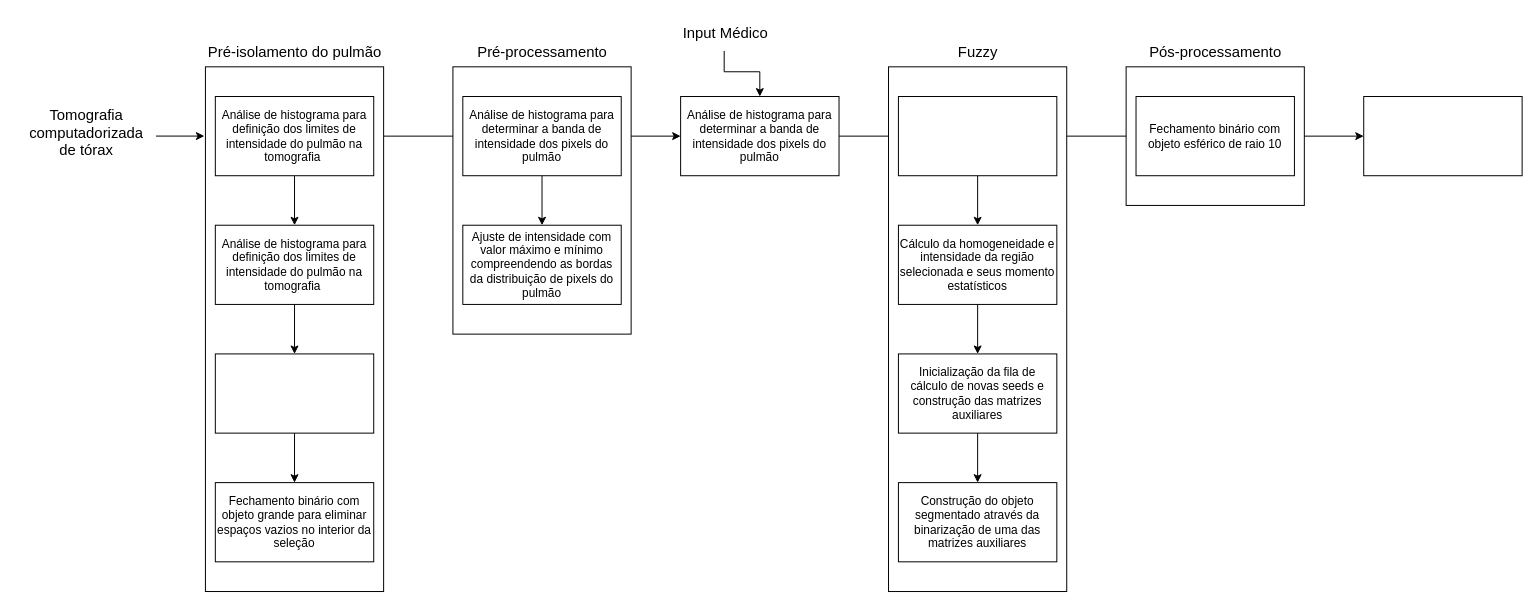
The diagram is 1539 pixels wide and 609 high, and some of its shapes have lost their labels. Each missing label, with the centre of its shape:
Binarização simples da imagem com thresholds encontrados: [294,393]
Inicialização da seed da região selecionada: [977,136]
Tumor segmentado disponível em ferramenta de visualização com medidas físicas: [1442,136]
